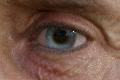eye: (47, 28, 75, 49)
